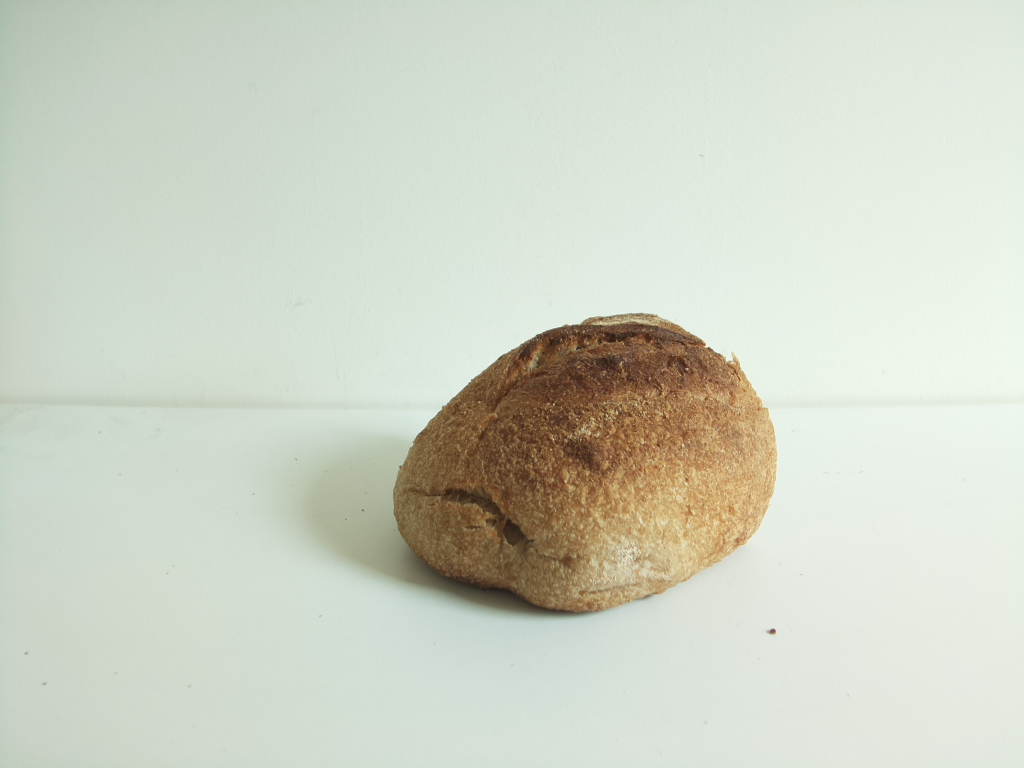bread: (391, 308, 782, 619)
